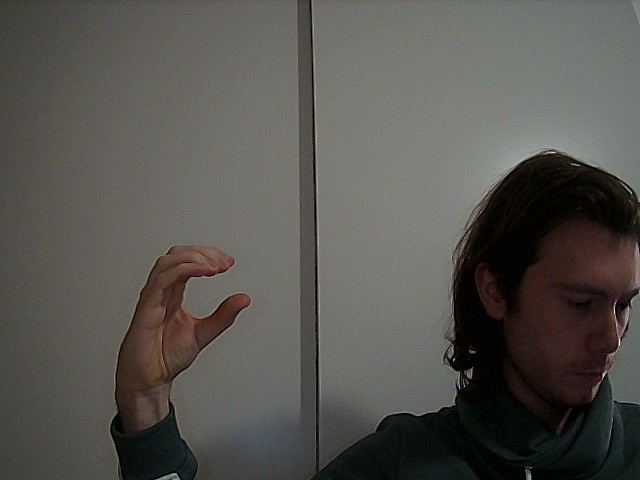c: (99, 234, 268, 393)
